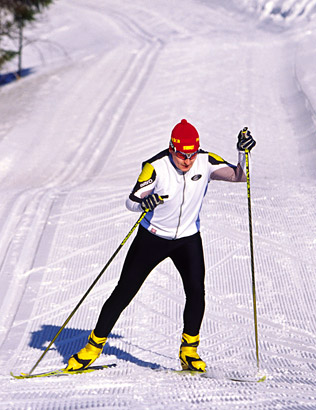skier: (8, 116, 269, 387)
